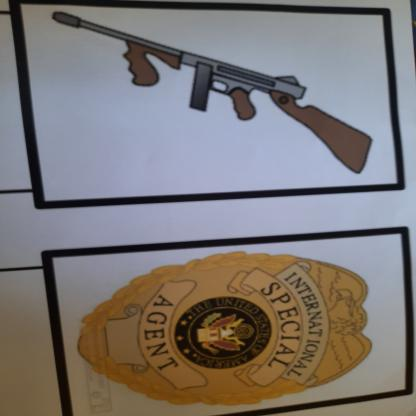Bootlegger: (34, 3, 400, 193)
G-man: (56, 242, 392, 416)
